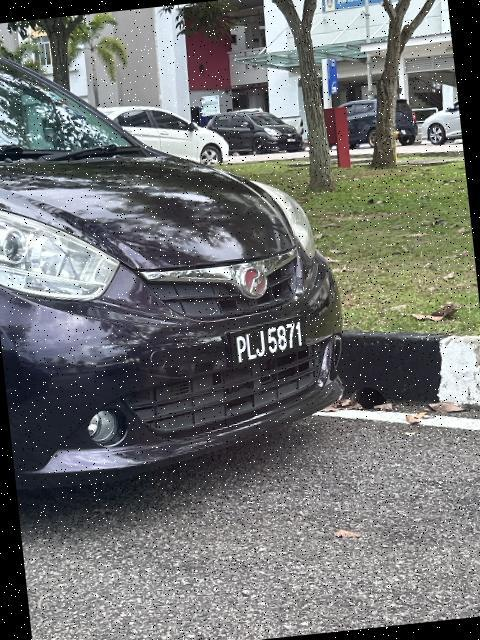License_Plate: (222, 311, 315, 375)
PLJ5871: (222, 311, 315, 375)
car: (1, 1, 357, 486)
